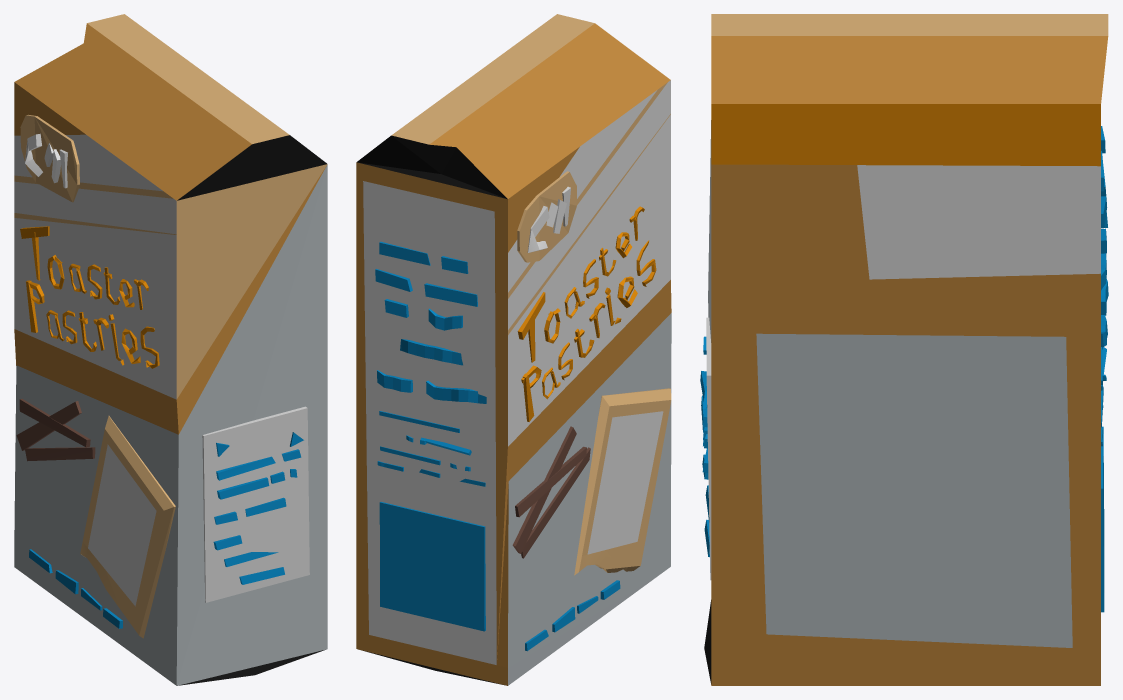
3 views of the same model, side by side, from view 1: azimuth 30°, elevation 25°; view 2: azimuth 150°, elevation 25°; view 3: azimuth 270°, elevation 25° (orthographic). The views are drawn at different scales.
Parts seen in each view (by area): view 1: node_MeshObject-2127297344-PolyPaper18; view 2: node_MeshObject-2127297344-PolyPaper18; view 3: node_MeshObject-2127297344-PolyPaper18.
Boxes of the visible parts, x1,y1,x2,y2 form: node_MeshObject-2127297344-PolyPaper18: (14, 14, 327, 685); node_MeshObject-2127297344-PolyPaper18: (356, 14, 671, 685); node_MeshObject-2127297344-PolyPaper18: (700, 14, 1108, 685).
Size of the model in its own units: 0.3102 by 0.97 by 0.5659.
